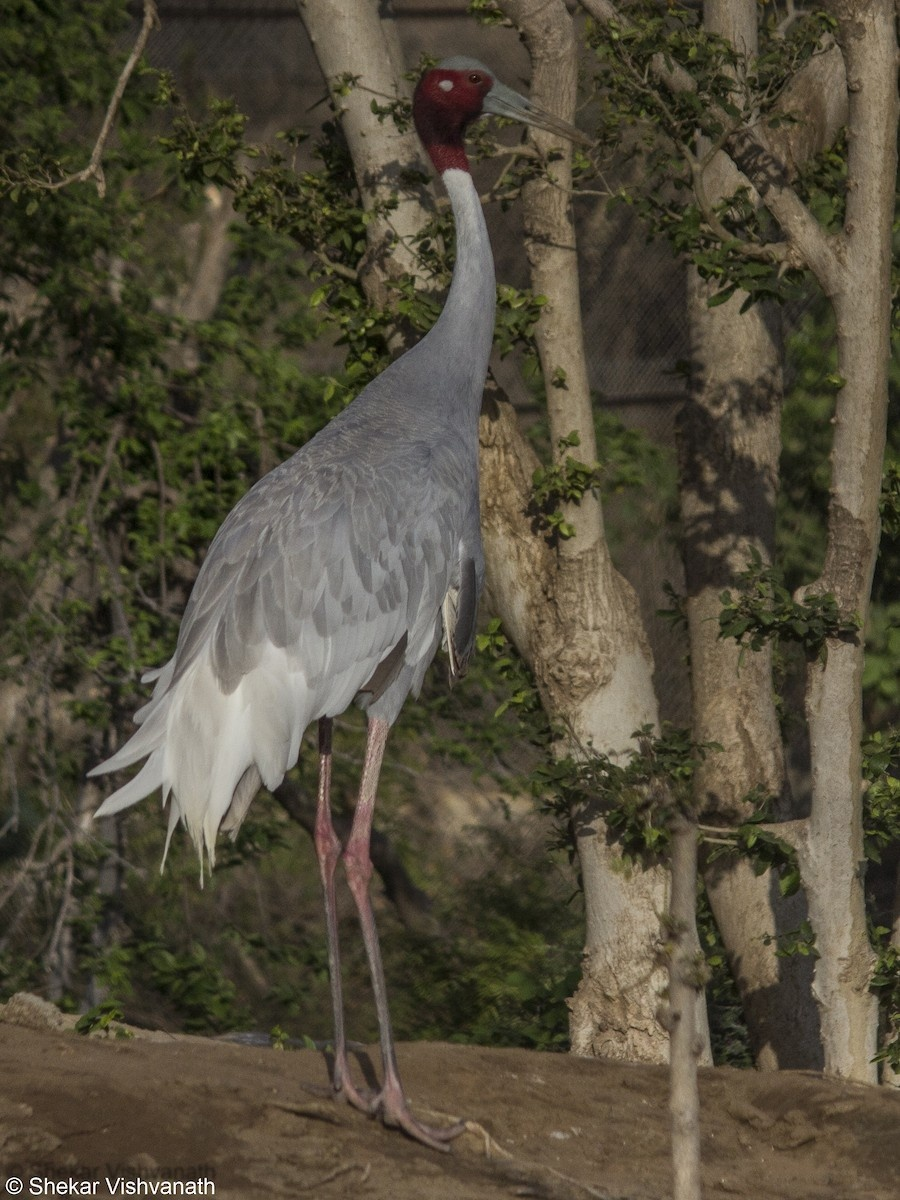crane: (102, 53, 605, 1149)
